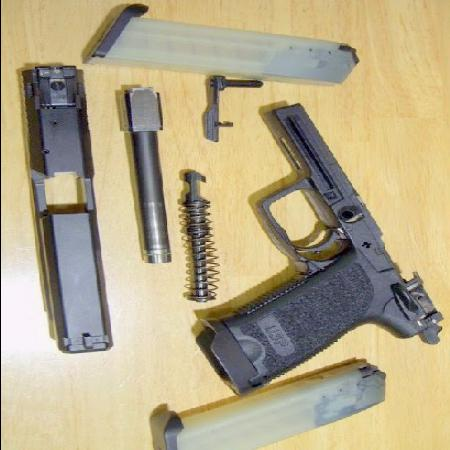Pistol: (189, 103, 445, 402)
